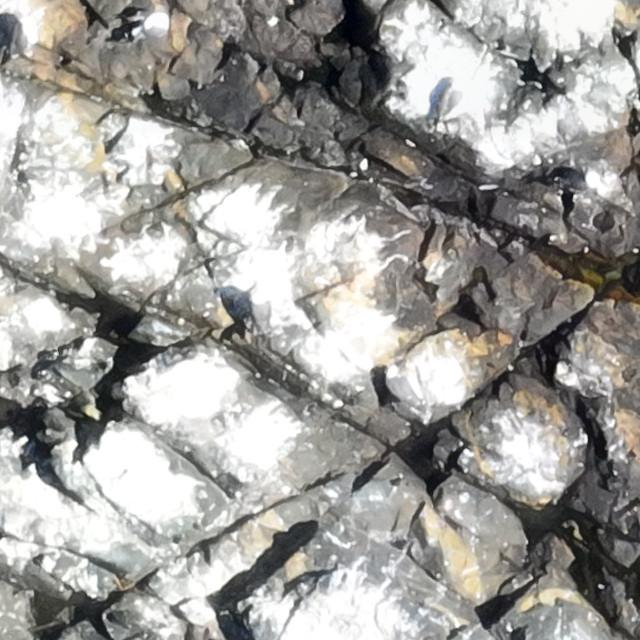umineko: (385, 361, 427, 411), (434, 74, 464, 121), (246, 284, 274, 332)
